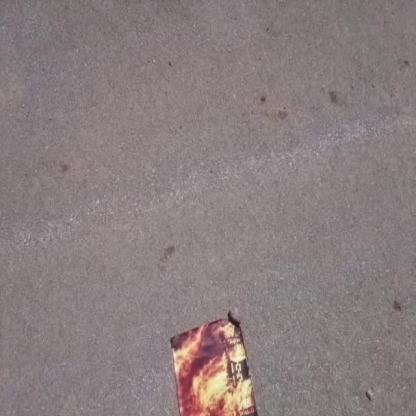fire-poster: (168, 309, 260, 415)
